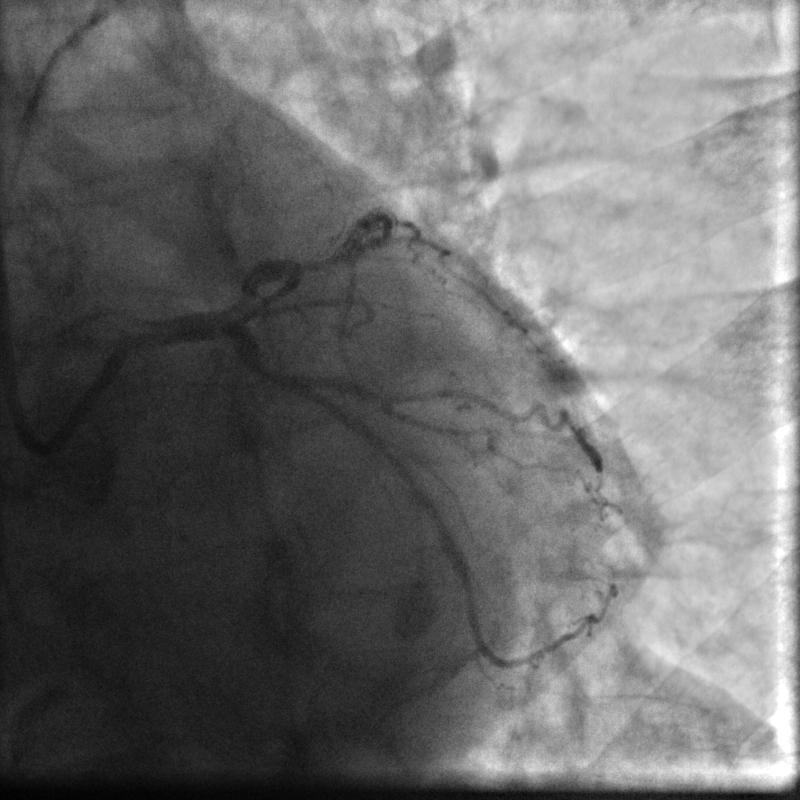Stenosis: (218, 274, 266, 317)
